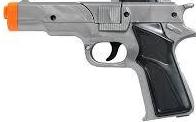gun: (1, 1, 196, 122)
